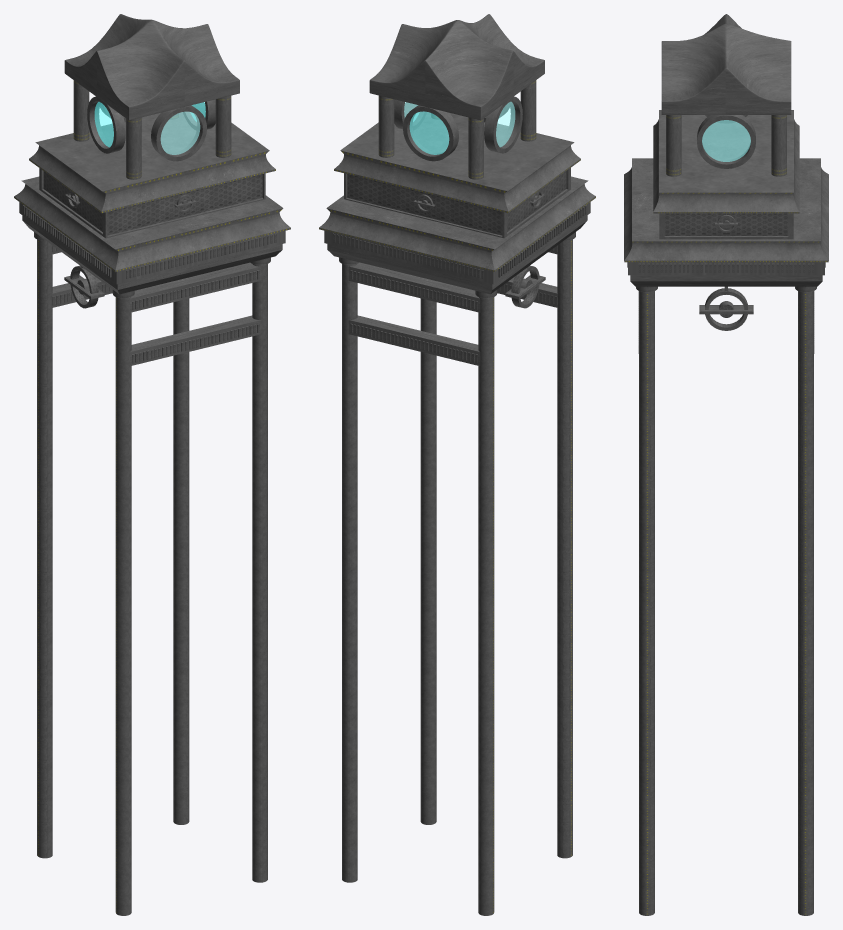
The model's file is building.fbx.
3 renders of one model, left to right at view 1: azimuth 30°, elevation 25°; view 2: azimuth 150°, elevation 25°; view 3: azimuth 270°, elevation 25°, orthographic.
Parts seen in each view (by area): view 1: Building, Lens; view 2: Building, Lens; view 3: Building, Lens.
Boxes of the visible parts, <box> form: Building: <box>14,14,290,915</box>; Lens: <box>94,102,205,154</box>; Building: <box>319,14,595,915</box>; Lens: <box>404,102,515,154</box>; Building: <box>624,14,828,915</box>; Lens: <box>702,120,750,161</box>.
Size of the model in its own units: 17341 by 79937 by 17341.
2 materials, 1 textured.
